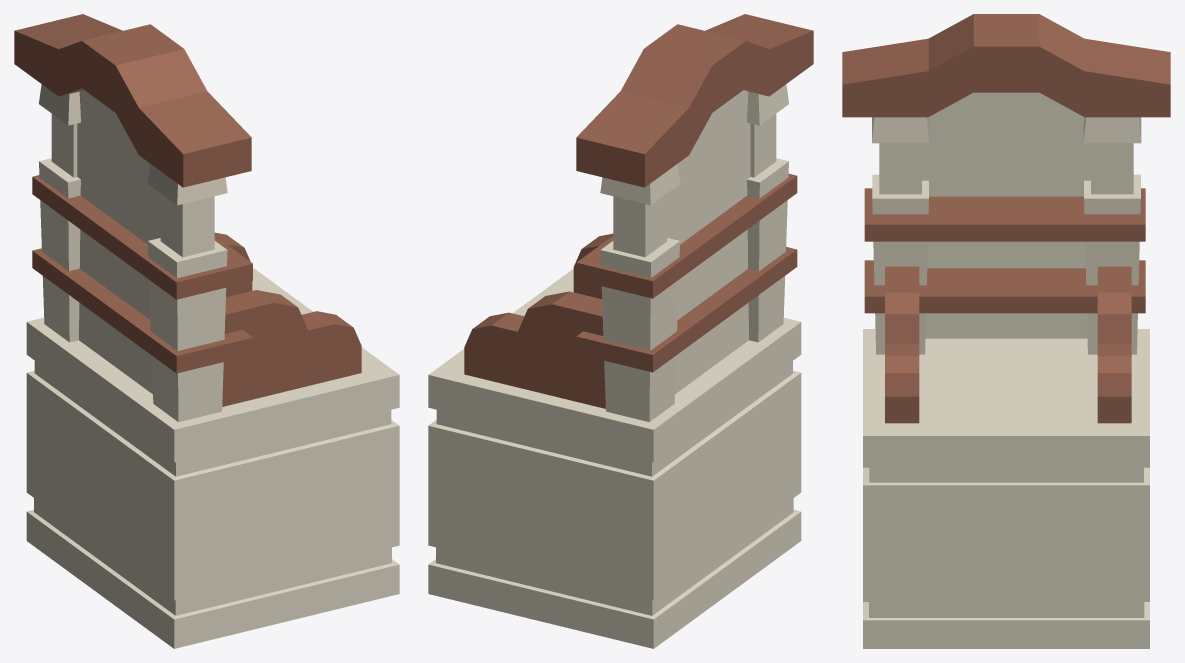
File: shelf_tall.fbx
3 renders of one model, left to right at view 1: azimuth 30°, elevation 25°; view 2: azimuth 150°, elevation 25°; view 3: azimuth 270°, elevation 25°, orthographic. The views are drawn at different scales.
Visible parts, largest first — view 1: Cube.013; view 2: Cube.013; view 3: Cube.013.
Boxes of the visible parts, x1=… form: Cube.013: x1=14, y1=14, x2=399, y2=648; Cube.013: x1=428, y1=14, x2=813, y2=648; Cube.013: x1=842, y1=14, x2=1170, y2=648.
Size of the model in its own units: 497 by 1135 by 640.
